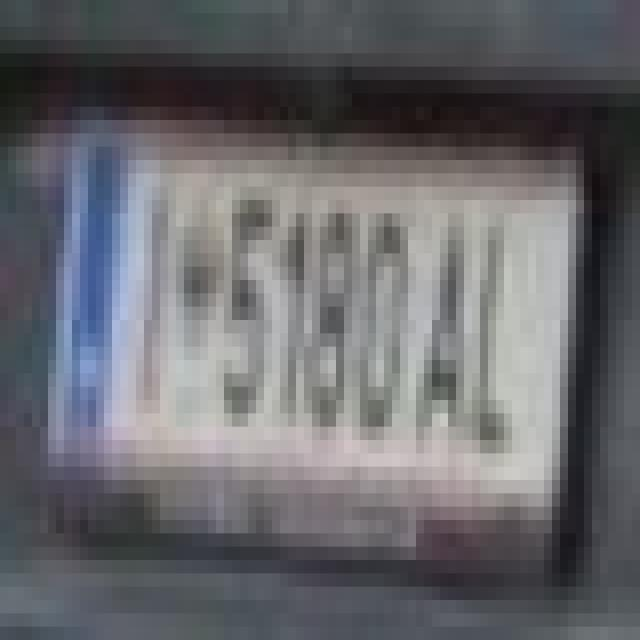licenseplate: (65, 90, 549, 540)
